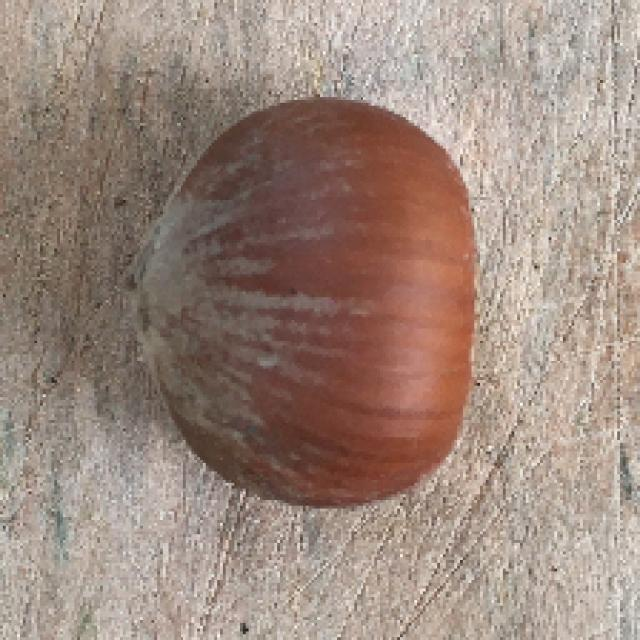qualityHazelnut: (130, 97, 480, 513)
